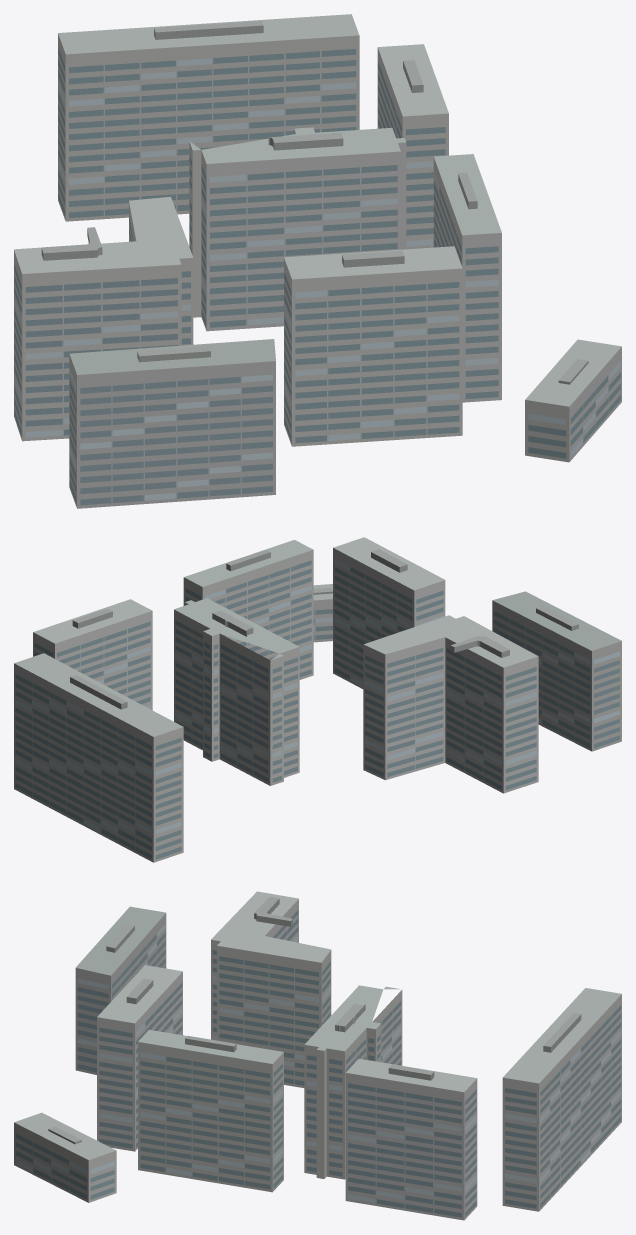
Rendered from apt-a13376702.glb.
3 views of the same model, one above another, from view 1: azimuth 30°, elevation 25°; view 2: azimuth 150°, elevation 25°; view 3: azimuth 270°, elevation 25° (orthographic). The views are drawn at different scales.
Visible parts, largest first — view 1: apt-a13376702; view 2: apt-a13376702; view 3: apt-a13376702.
Part boxes in pixels (x1,y1,x2,y2): apt-a13376702: (14,14,621,508); apt-a13376702: (14,537,621,862); apt-a13376702: (14,891,621,1220).
Bounding box in the file's own units: 162 × 47.81 × 197.
